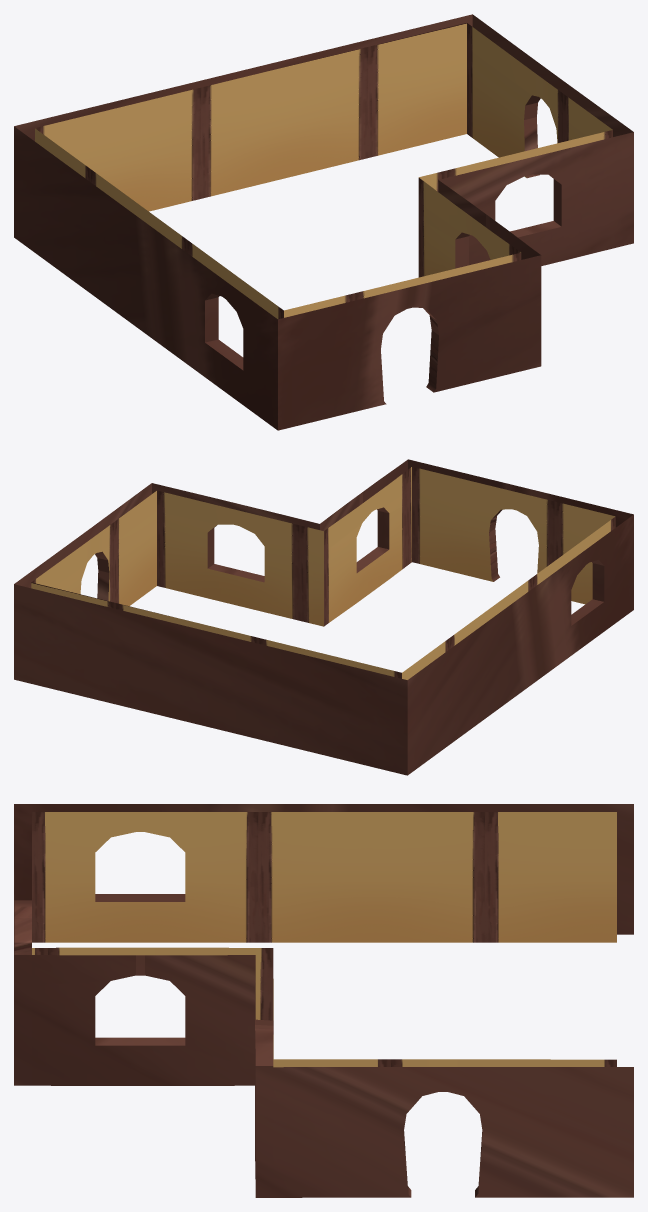
The model's file is SM_Walls_02.fbx.
The picture shows the model from 3 angles, top to bottom: view 1: azimuth 30°, elevation 25°; view 2: azimuth 150°, elevation 25°; view 3: azimuth 270°, elevation 25°; orthographic projection. The views are drawn at different scales.
Visible parts, largest first — view 1: polySurface41; view 2: polySurface41; view 3: polySurface41.
Boxes of the visible parts, x1,y1,x2,y2 form: polySurface41: (14,14,633,430); polySurface41: (14,459,633,775); polySurface41: (14,804,633,1197).
Size of the model in its own units: 1025 by 237 by 1021.
